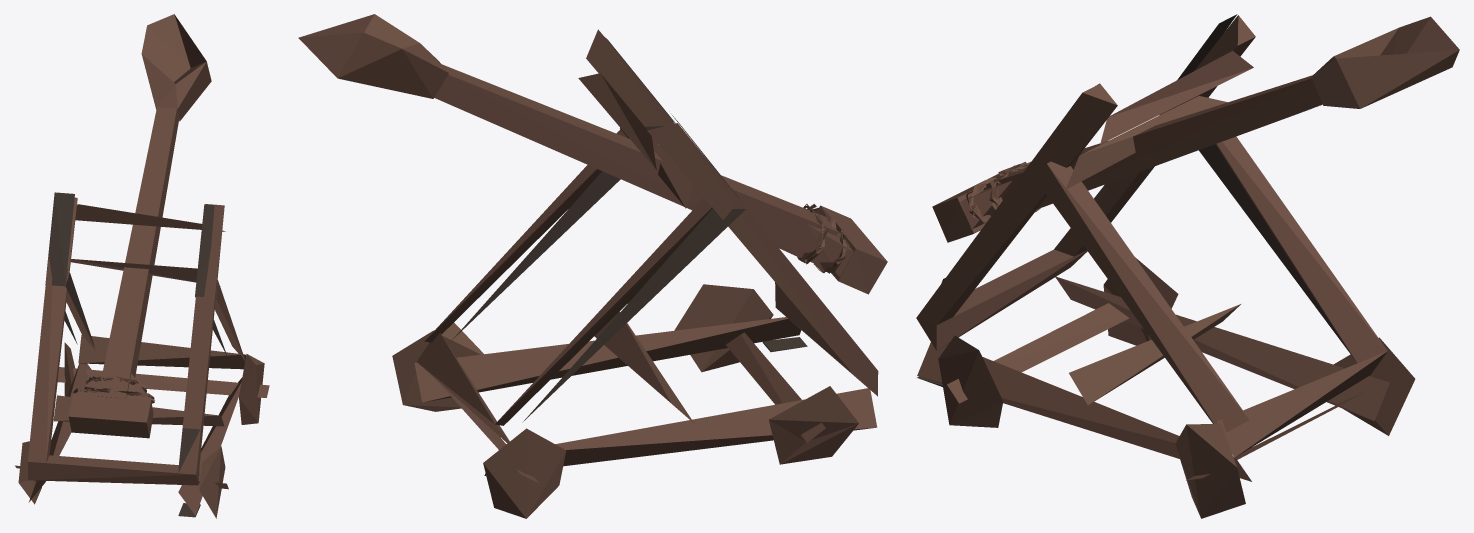
Rendered from catapult.lod2.glb.
The picture shows the model from 3 angles, left to right: view 1: azimuth 30°, elevation 25°; view 2: azimuth 150°, elevation 25°; view 3: azimuth 270°, elevation 25°; orthographic projection. The views are drawn at different scales.
Parts seen in each view (by area): view 1: Object_4; view 2: Object_4; view 3: Object_4.
Boxes of the visible parts, x1,y1,x2,y2 form: Object_4: [15, 14, 269, 518]; Object_4: [298, 14, 887, 518]; Object_4: [916, 14, 1459, 518].
Bounding box in the file's own units: 6.15 × 6.84 × 6.98.
